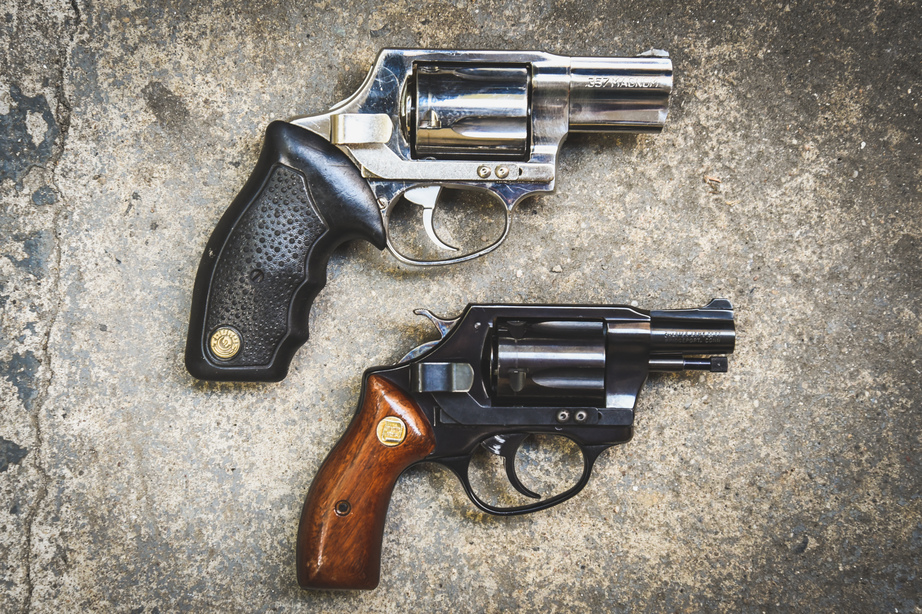Revolver: (319, 289, 772, 588)
